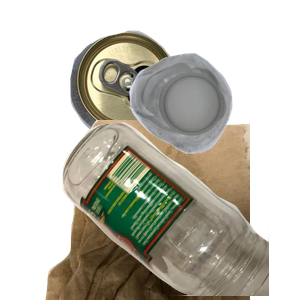glass: (60, 120, 300, 300)
metal: (68, 28, 237, 159)
plastic: (127, 51, 300, 197)
trash: (43, 120, 283, 300)
